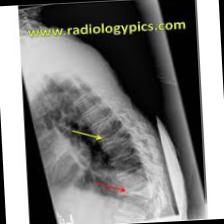compression-crush-fracture: (18, 0, 207, 224)
